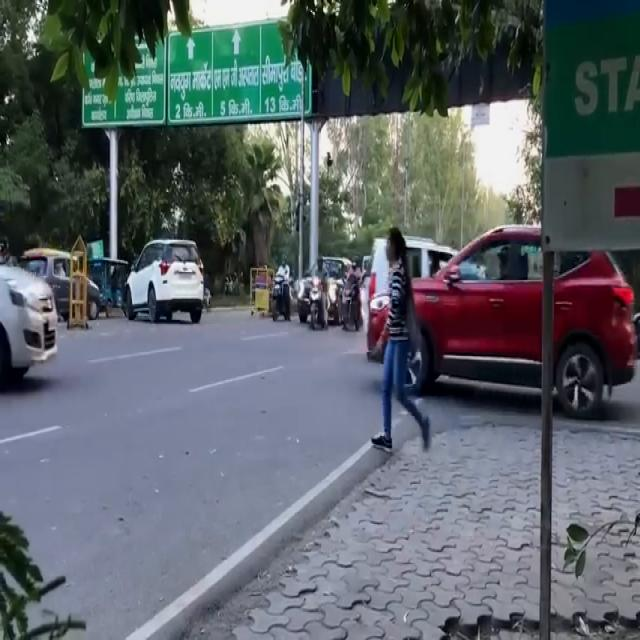MOTORCYCLE: (311, 274, 329, 332), (342, 275, 359, 328), (270, 275, 286, 323)
SUV: (371, 222, 640, 420), (120, 233, 206, 318)
